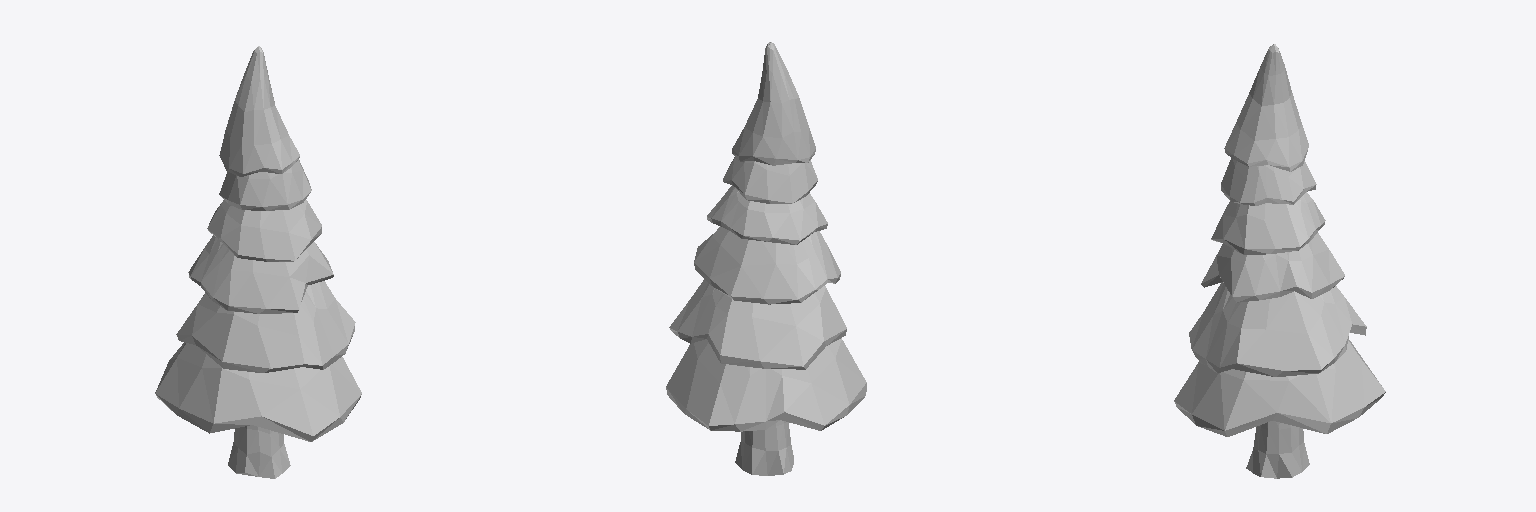
Rendered from pine_tree_2.obj.
The picture shows the model from 3 angles: view 1: azimuth 30°, elevation 25°; view 2: azimuth 150°, elevation 25°; view 3: azimuth 270°, elevation 25°; orthographic projection.
Parts seen in each view (by area): view 1: pine_tree_2; view 2: pine_tree_2; view 3: pine_tree_2.
Part boxes in pixels (bbox=[...]): pine_tree_2: bbox=[155, 46, 361, 478]; pine_tree_2: bbox=[666, 42, 866, 475]; pine_tree_2: bbox=[1174, 44, 1385, 478].
Size of the model in its own units: 2.14 by 5.48 by 2.48.